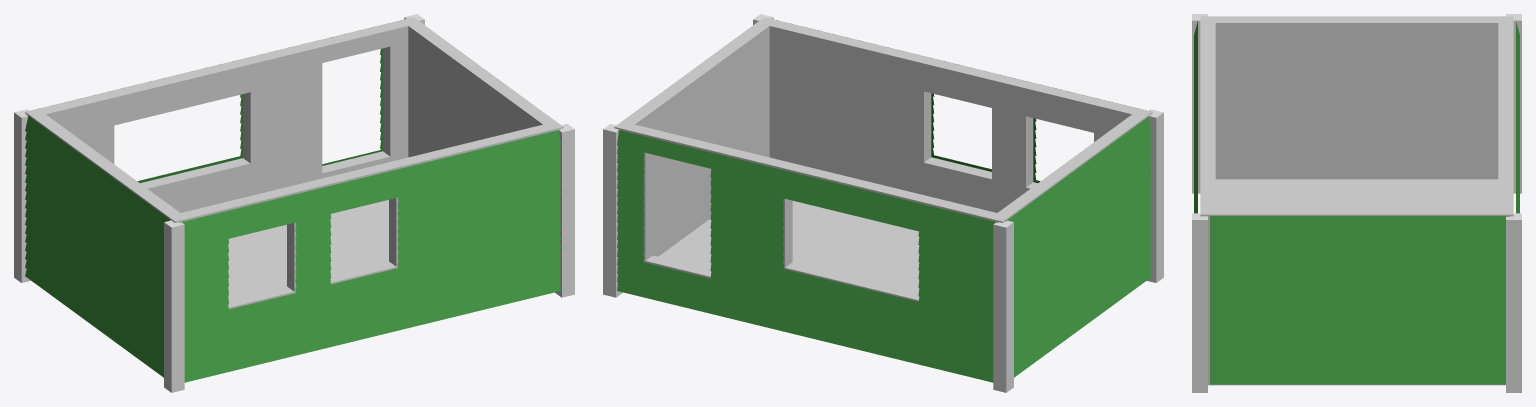
Rendered from house3.fbx.
The picture shows the model from 3 angles, left to right: view 1: azimuth 30°, elevation 25°; view 2: azimuth 150°, elevation 25°; view 3: azimuth 270°, elevation 25°; orthographic projection. The views are drawn at different scales.
Parts seen in each view (by area): view 1: Cube.014; view 2: Cube.014; view 3: Cube.014.
Part boxes in pixels (x1=…): Cube.014: x1=14, y1=14, x2=574, y2=392; Cube.014: x1=603, y1=14, x2=1163, y2=392; Cube.014: x1=1192, y1=14, x2=1521, y2=392.
Size of the model in its own units: 1184 by 468 by 801.
